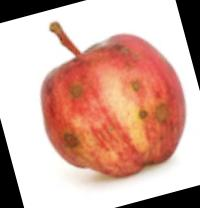Apple: (34, 34, 185, 179)
